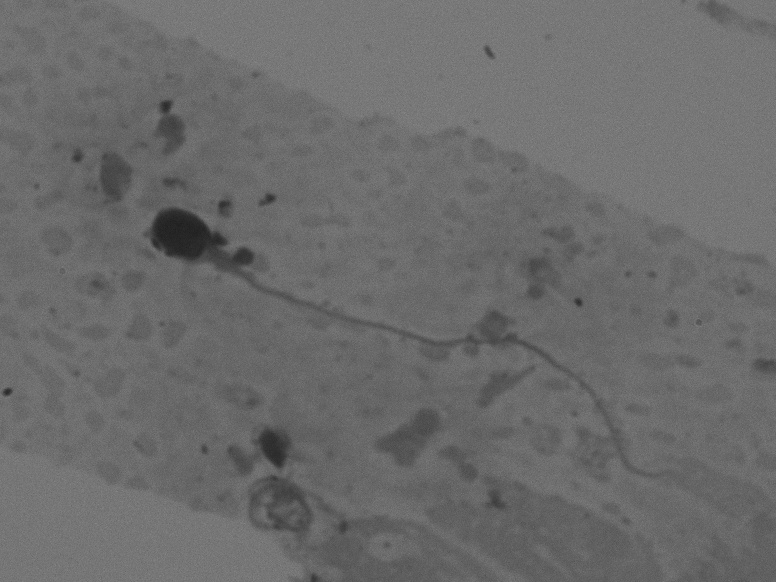Abnormal: (131, 182, 672, 498)
